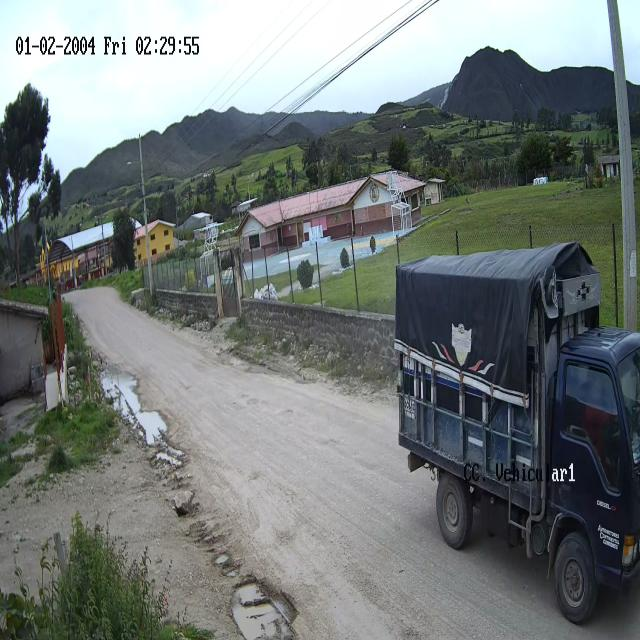TRUCK: (393, 243, 640, 626)
